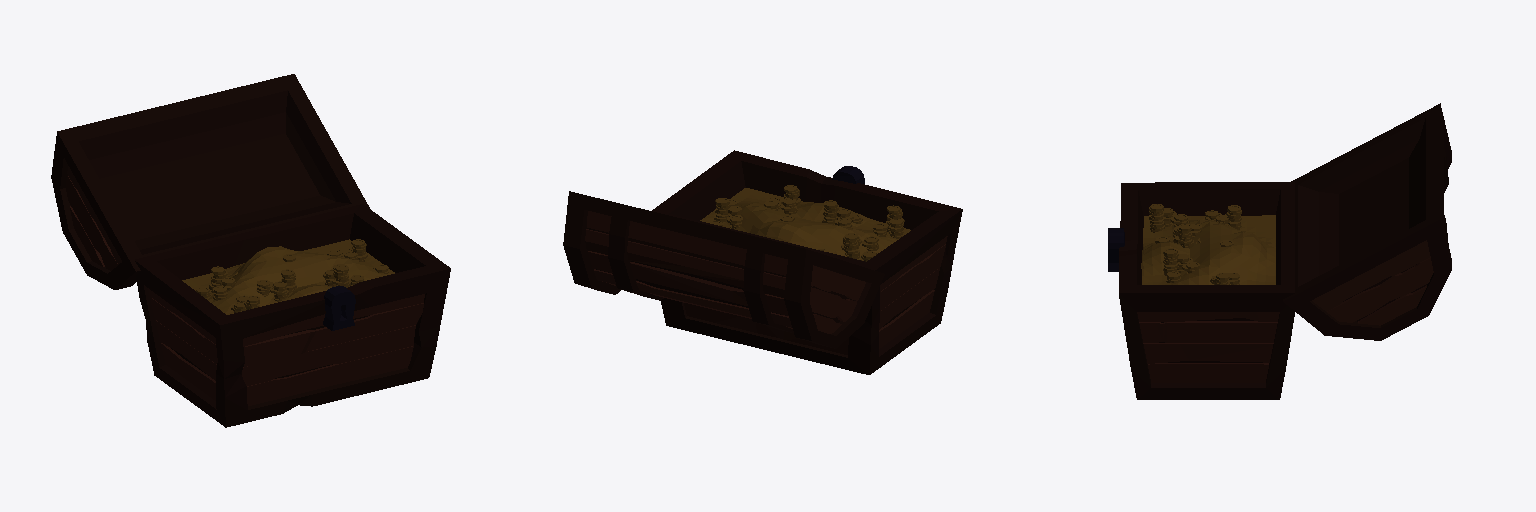
Rendered from Chest_Gold.obj.
3 views of the same model, side by side, from view 1: azimuth 30°, elevation 25°; view 2: azimuth 150°, elevation 25°; view 3: azimuth 270°, elevation 25° (orthographic).
Visible parts, largest first — view 1: Chest_Gold.001; view 2: Chest_Gold.001; view 3: Chest_Gold.001.
Part boxes in pixels (x1,y1,x2,y2): Chest_Gold.001: (51, 74, 450, 427); Chest_Gold.001: (563, 150, 962, 374); Chest_Gold.001: (1108, 103, 1451, 399).
Bounding box in the file's own units: 1.18 × 0.8994 × 1.48.